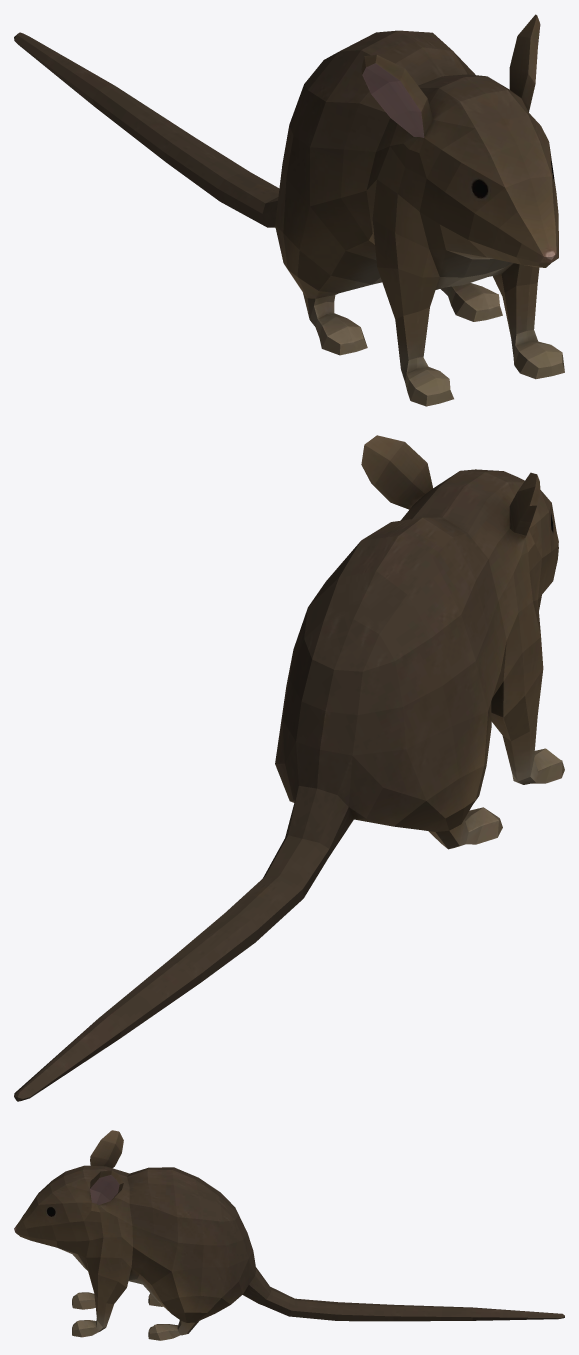
File: 24Xnzj_Nmln.glb
The picture shows the model from 3 angles, top to bottom: view 1: azimuth 30°, elevation 25°; view 2: azimuth 150°, elevation 25°; view 3: azimuth 270°, elevation 25°; orthographic projection. The views are drawn at different scales.
Parts seen in each view (by area): view 1: Woodrats_Mesh; view 2: Woodrats_Mesh; view 3: Woodrats_Mesh.
Boxes of the visible parts, left/top/right/bottom form: Woodrats_Mesh: left=14, top=14, right=564, bottom=406; Woodrats_Mesh: left=14, top=435, right=564, bottom=1101; Woodrats_Mesh: left=14, top=1130, right=564, bottom=1340.
Bounding box in the file's own units: 0.5906 × 1 × 2.96.
Materials: 1 (1 with a texture image).
